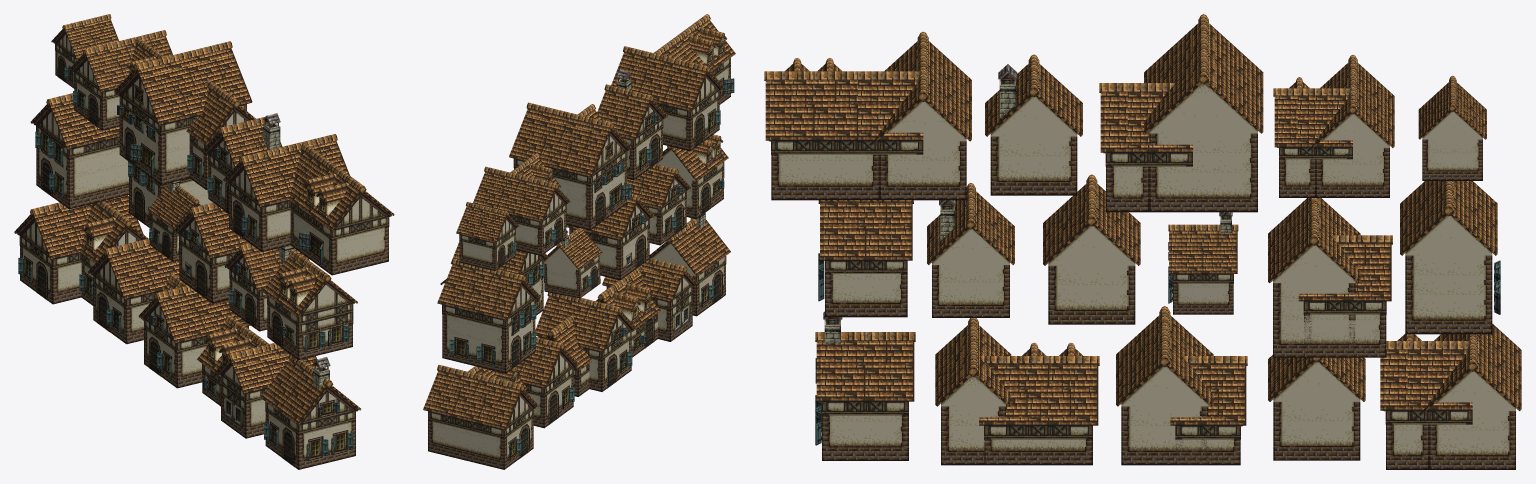
Rendered from MbdMD_T_Forest_L_A_Pub_B.FBX.
3 views of the same model, side by side, from view 1: azimuth 30°, elevation 25°; view 2: azimuth 150°, elevation 25°; view 3: azimuth 270°, elevation 25° (orthographic). The views are drawn at different scales.
Visible parts, largest first — view 1: MbdMD_T_Forest_L_A_Pub_B, MbdMD_T_Forest_L_A_Inn, MbdMD_Co_T_Forest_L_B_Build_01, MbdMD_Co_T_Forest_L_B_House_A, MbdMD_Co_T_Forest_L_B_WeaponShop, MbdMD_T_Forest_L_A_Build_02, MbdMD_Co_T_Forest_L_B_Build_04, MbdMD_Co_T_Forest_L_B_Build_03, MbdMD_Co_T_Forest_L_B_Build_02, MbdMD_T_Forest_L_A_Build_04, MbdMD_T_Forest_L_A_Build_03, MbdMD_T_Forest_L_A_ItemShop (+4 smaller); view 2: MbdMD_T_Forest_L_A_Inn, MbdMD_Co_T_Forest_L_B_Build_01, MbdMD_T_Forest_L_A_Pub_B, MbdMD_Co_T_Forest_L_B_WeaponShop, MbdMD_Co_T_Forest_L_B_Build_03, MbdMD_Co_T_Forest_L_B_Build_04, MbdMD_T_Forest_L_A_Build_04, MbdMD_T_Forest_L_A_ItemShop, MbdMD_Co_T_Forest_L_B_House_A, MbdMD_T_Forest_L_A_Build_03, MbdMD_Co_T_Forest_L_B_Build_02, MbdMD_T_Forest_L_A_Build_06 (+4 smaller); view 3: MbdMD_T_Forest_L_A_Pub_B, MbdMD_T_Forest_L_A_Inn, MbdMD_Co_T_Forest_L_B_Build_04, MbdMD_Co_T_Forest_L_B_Build_01, MbdMD_T_Forest_L_A_Build_01, MbdMD_Co_T_Forest_L_B_Build_03, MbdMD_Co_T_Forest_L_B_WeaponShop, MbdMD_T_Forest_L_A_Build_04, MbdMD_Co_T_Forest_L_B_House_A, MbdMD_T_Forest_L_A_Build_03, MbdMD_T_Forest_L_A_ItemShop, MbdMD_T_Forest_L_A_Build_02 (+4 smaller).
Part boxes in pixels (<box>): MbdMD_T_Forest_L_A_Pub_B: <box>223,134,394,275</box>; MbdMD_T_Forest_L_A_Inn: <box>114,41,255,189</box>; MbdMD_Co_T_Forest_L_B_Build_01: <box>14,195,147,305</box>; MbdMD_Co_T_Forest_L_B_House_A: <box>260,354,360,469</box>; MbdMD_Co_T_Forest_L_B_WeaponShop: <box>30,93,128,209</box>; MbdMD_T_Forest_L_A_Build_02: <box>262,249,357,359</box>; MbdMD_Co_T_Forest_L_B_Build_04: <box>197,315,317,438</box>; MbdMD_Co_T_Forest_L_B_Build_03: <box>138,273,250,388</box>; MbdMD_Co_T_Forest_L_B_Build_02: <box>88,238,179,344</box>; MbdMD_T_Forest_L_A_Build_04: <box>69,30,172,130</box>; MbdMD_T_Forest_L_A_Build_03: <box>173,202,249,303</box>; MbdMD_T_Forest_L_A_ItemShop: <box>202,113,282,213</box>; MbdMD_T_Forest_L_A_Inn: <box>509,102,631,230</box>; MbdMD_Co_T_Forest_L_B_Build_01: <box>423,365,538,469</box>; MbdMD_T_Forest_L_A_Pub_B: <box>611,14,735,151</box>; MbdMD_Co_T_Forest_L_B_WeaponShop: <box>437,258,539,373</box>; MbdMD_Co_T_Forest_L_B_Build_03: <box>535,292,636,396</box>; MbdMD_Co_T_Forest_L_B_Build_04: <box>595,258,697,357</box>; MbdMD_T_Forest_L_A_Build_04: <box>473,153,570,255</box>; MbdMD_T_Forest_L_A_ItemShop: <box>597,69,667,180</box>; MbdMD_Co_T_Forest_L_B_House_A: <box>649,213,730,316</box>; MbdMD_T_Forest_L_A_Build_03: <box>566,194,654,280</box>; MbdMD_Co_T_Forest_L_B_Build_02: <box>516,337,578,428</box>; MbdMD_T_Forest_L_A_Build_06: <box>456,202,518,270</box>; MbdMD_T_Forest_L_A_Pub_B: <box>764,31,971,200</box>; MbdMD_T_Forest_L_A_Inn: <box>1099,14,1263,212</box>; MbdMD_Co_T_Forest_L_B_Build_04: <box>935,318,1099,465</box>; MbdMD_Co_T_Forest_L_B_Build_01: <box>1380,324,1521,469</box>; MbdMD_T_Forest_L_A_Build_01: <box>1268,198,1392,357</box>; MbdMD_Co_T_Forest_L_B_Build_03: <box>1116,306,1247,465</box>; MbdMD_Co_T_Forest_L_B_WeaponShop: <box>1400,181,1500,334</box>; MbdMD_T_Forest_L_A_Build_04: <box>1273,55,1394,197</box>; MbdMD_Co_T_Forest_L_B_House_A: <box>815,311,915,460</box>; MbdMD_T_Forest_L_A_Build_03: <box>1043,174,1140,324</box>; MbdMD_T_Forest_L_A_ItemShop: <box>985,54,1082,195</box>; MbdMD_T_Forest_L_A_Build_02: <box>818,200,913,317</box>.
Size of the model in its own units: 884 by 2028 by 3486.
